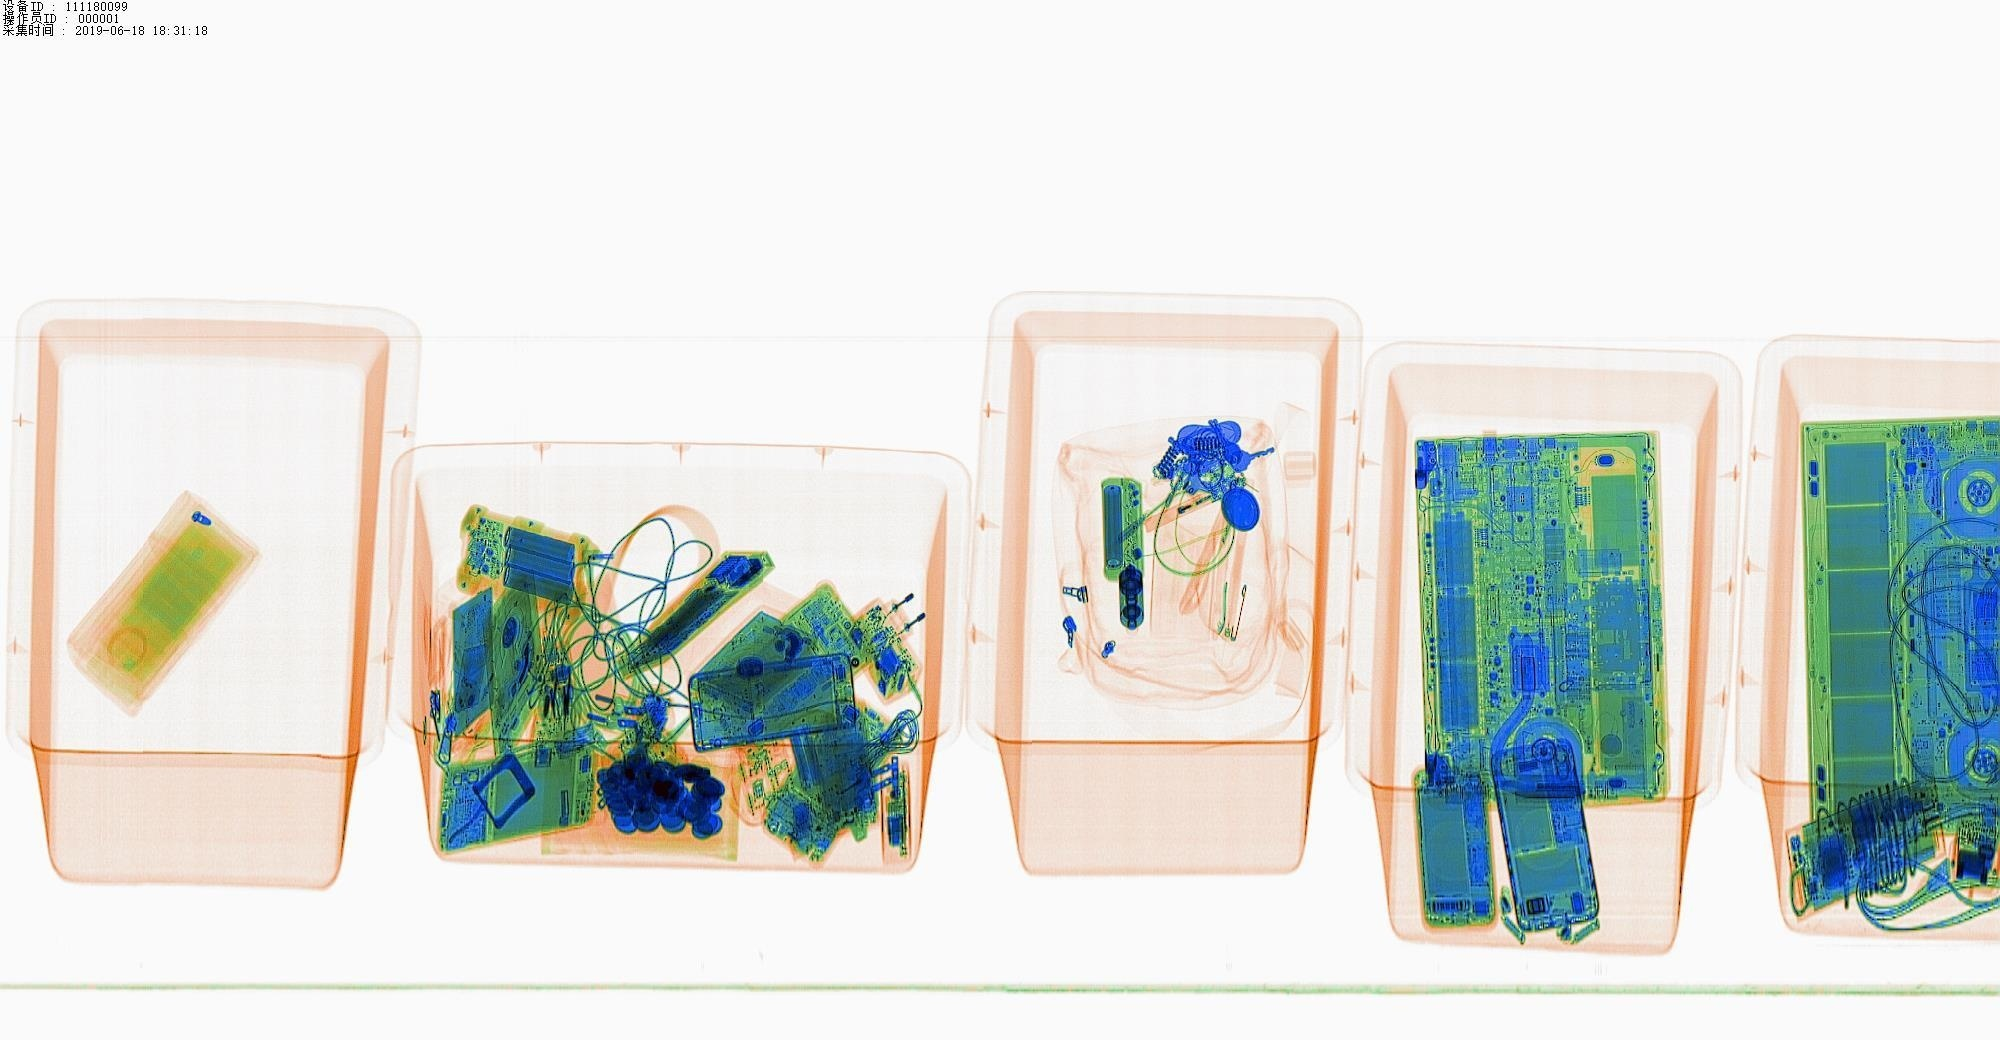NonmetallicFire: (1135, 471, 1249, 548)
